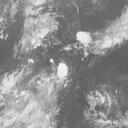cyclone: (40, 56, 77, 94)
